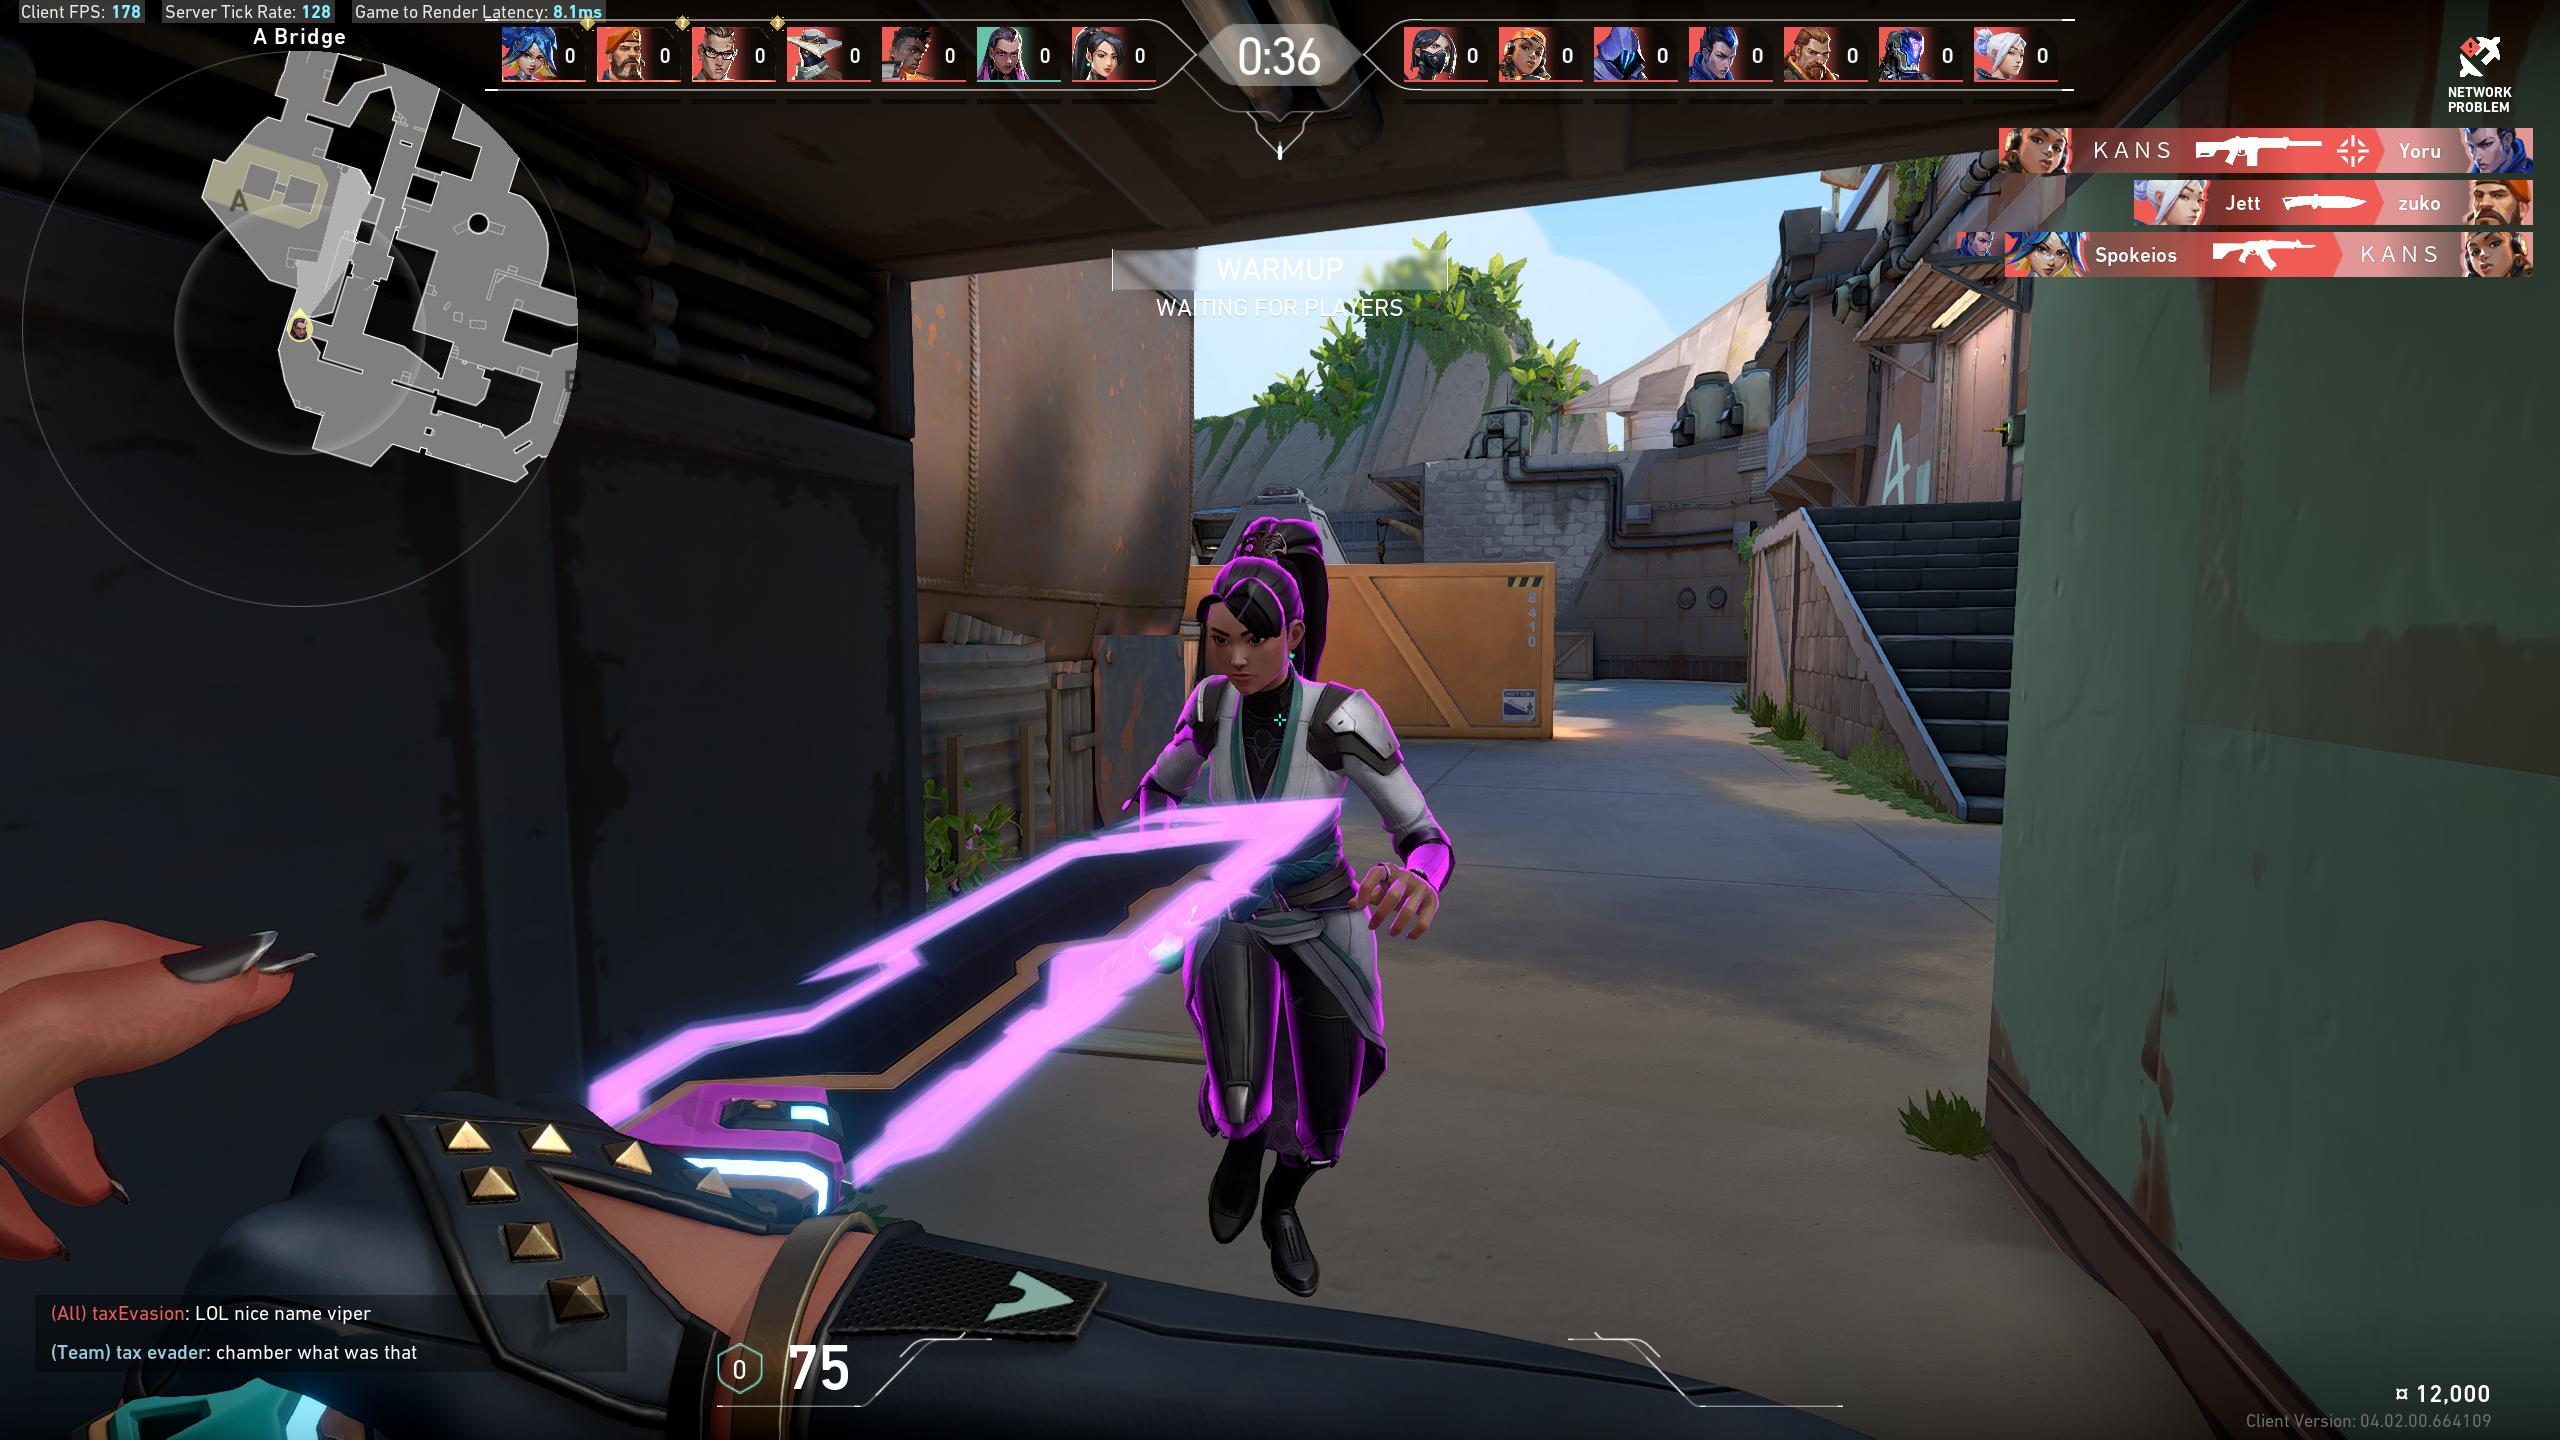enemyBody: (1225, 700, 1335, 909)
enemyHead: (1220, 591, 1282, 675)
